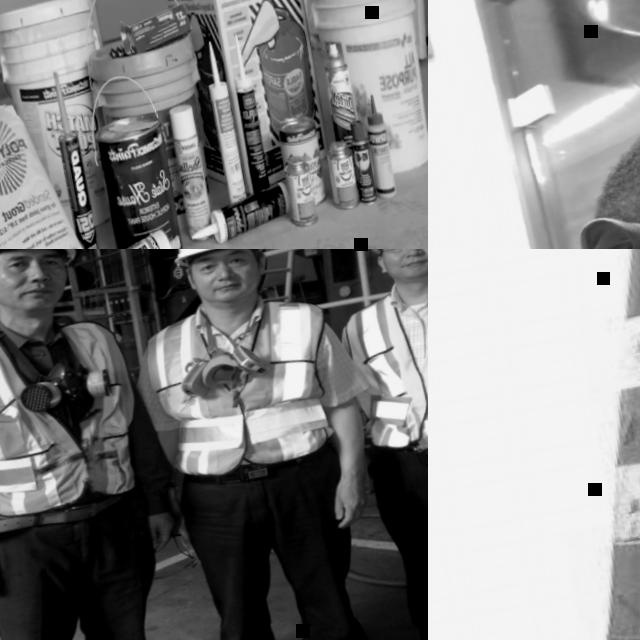Hardhat: (160, 249, 271, 267)
NO-Hardhat: (579, 49, 640, 236)
NO-Mask: (5, 279, 67, 313), (200, 275, 255, 307), (384, 255, 428, 284)
Person: (106, 249, 422, 640), (0, 249, 217, 640), (306, 249, 428, 640), (428, 47, 640, 249)
Safety Cone: (428, 249, 640, 640)
Safety Vest: (138, 290, 351, 485), (0, 299, 159, 528), (339, 273, 428, 473)
